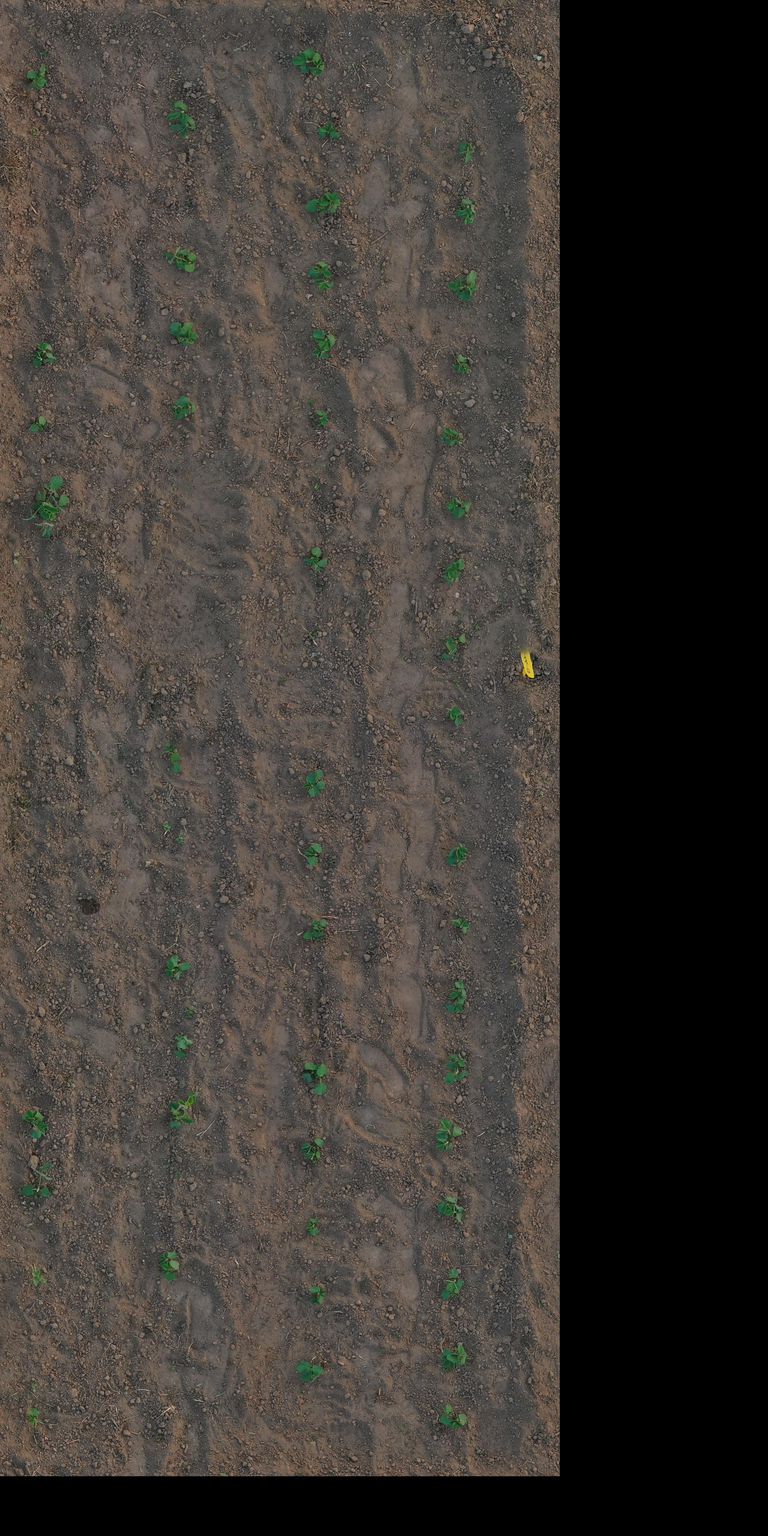s: (29, 476, 69, 512), (21, 1162, 52, 1197), (164, 246, 197, 273), (168, 1096, 195, 1129), (456, 270, 480, 301), (291, 47, 316, 74), (169, 114, 196, 137), (166, 100, 189, 126), (170, 325, 197, 346), (446, 1344, 467, 1368), (444, 1267, 464, 1292), (312, 329, 336, 349), (305, 194, 330, 213), (437, 1118, 462, 1137), (302, 772, 320, 797), (158, 1250, 180, 1270), (308, 260, 332, 278), (304, 843, 322, 867), (443, 1068, 470, 1084), (34, 506, 67, 519), (314, 1063, 327, 1096), (166, 954, 191, 971), (458, 141, 476, 164), (444, 994, 467, 1012), (308, 52, 325, 76), (26, 69, 46, 89), (174, 395, 190, 420), (443, 1203, 464, 1222), (317, 123, 341, 139), (30, 350, 54, 366), (300, 1138, 324, 1154), (441, 640, 460, 660), (446, 558, 465, 578), (448, 980, 467, 1000), (446, 1053, 466, 1072), (36, 341, 57, 359), (162, 741, 180, 762), (448, 842, 469, 860), (30, 1118, 48, 1139), (303, 547, 322, 566), (312, 341, 332, 359), (34, 520, 54, 538), (296, 1361, 313, 1382), (453, 500, 472, 518), (437, 1196, 456, 1214), (324, 192, 341, 212), (456, 208, 476, 225), (451, 354, 468, 374), (445, 497, 465, 514), (302, 1062, 318, 1083), (296, 1364, 324, 1376), (440, 1348, 455, 1370), (458, 198, 476, 216), (442, 428, 460, 446), (448, 276, 465, 295), (436, 1132, 453, 1151), (27, 1407, 42, 1428), (308, 1286, 325, 1304), (451, 918, 470, 934), (160, 1261, 176, 1280), (446, 851, 466, 866), (173, 1039, 188, 1059), (168, 321, 195, 332), (31, 1270, 48, 1287), (28, 416, 46, 432), (313, 278, 335, 291), (313, 768, 326, 790), (22, 1110, 44, 1123), (447, 1414, 467, 1428), (440, 1404, 453, 1425), (181, 397, 196, 415), (170, 752, 182, 774), (440, 1287, 460, 1300), (451, 705, 463, 726), (443, 570, 461, 584), (164, 960, 178, 978), (306, 1218, 319, 1236), (314, 558, 328, 574), (185, 1086, 199, 1102), (311, 918, 328, 931), (447, 633, 466, 644), (316, 410, 329, 426), (37, 64, 47, 84), (175, 1034, 193, 1045), (302, 930, 321, 940), (449, 434, 463, 447), (303, 1150, 321, 1160), (174, 829, 184, 844), (445, 707, 456, 720), (171, 403, 179, 418), (162, 822, 172, 831), (463, 366, 471, 373)
